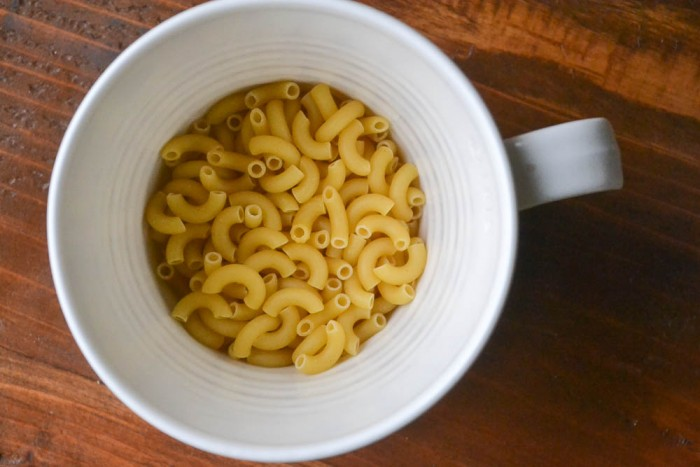macncheese: (138, 77, 425, 376)
